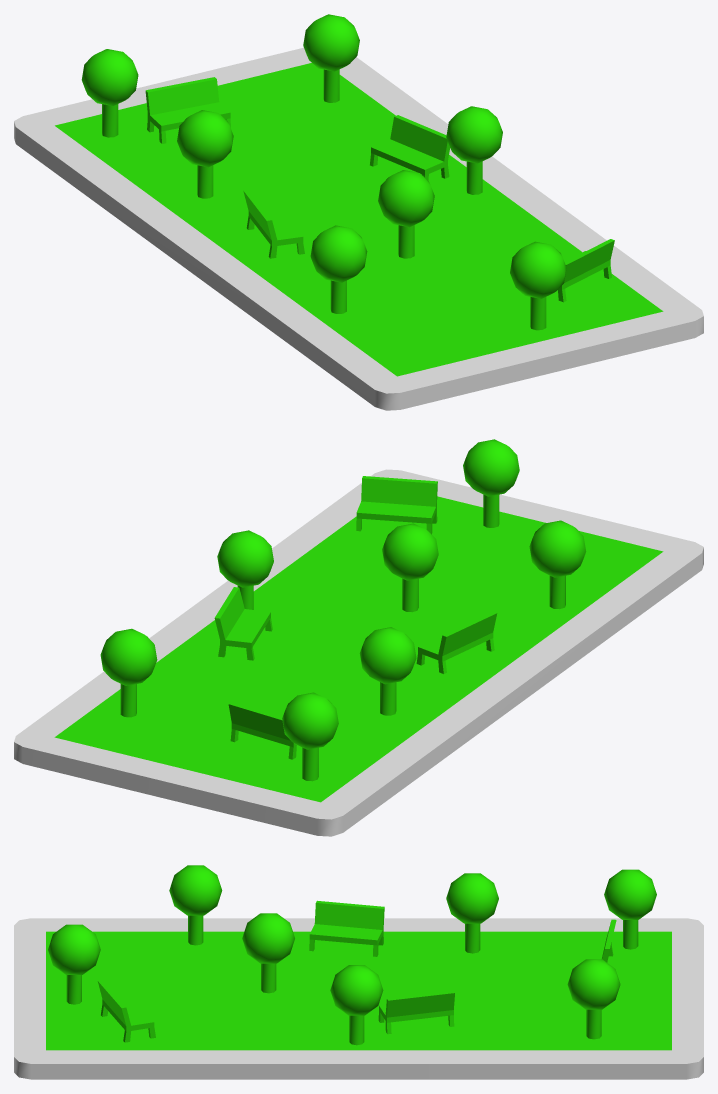
File: Park_1x2.glb
The picture shows the model from 3 angles, top to bottom: view 1: azimuth 30°, elevation 25°; view 2: azimuth 150°, elevation 25°; view 3: azimuth 270°, elevation 25°; orthographic projection. The views are drawn at different scales.
Visible parts, largest first — view 1: Park_1x2; view 2: Park_1x2; view 3: Park_1x2.
Boxes of the visible parts, x1,y1,x2,y2 form: Park_1x2: (14,14,703,410); Park_1x2: (14,439,703,836); Park_1x2: (14,865,703,1079).
Size of the model in its own units: 1 by 0.2923 by 2.
